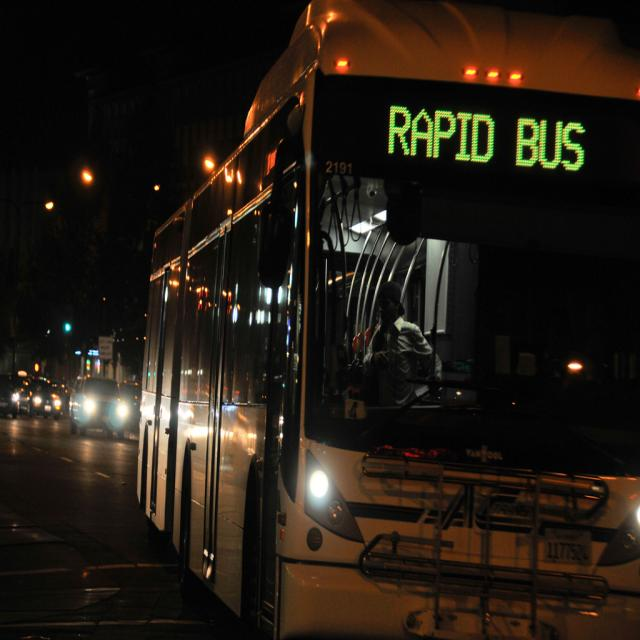Bus: (121, 3, 640, 640)
People: (376, 255, 441, 437)
car: (70, 362, 121, 449), (22, 359, 68, 446), (0, 346, 33, 449)
